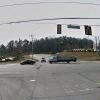Traffic light: (52, 19, 70, 37)
